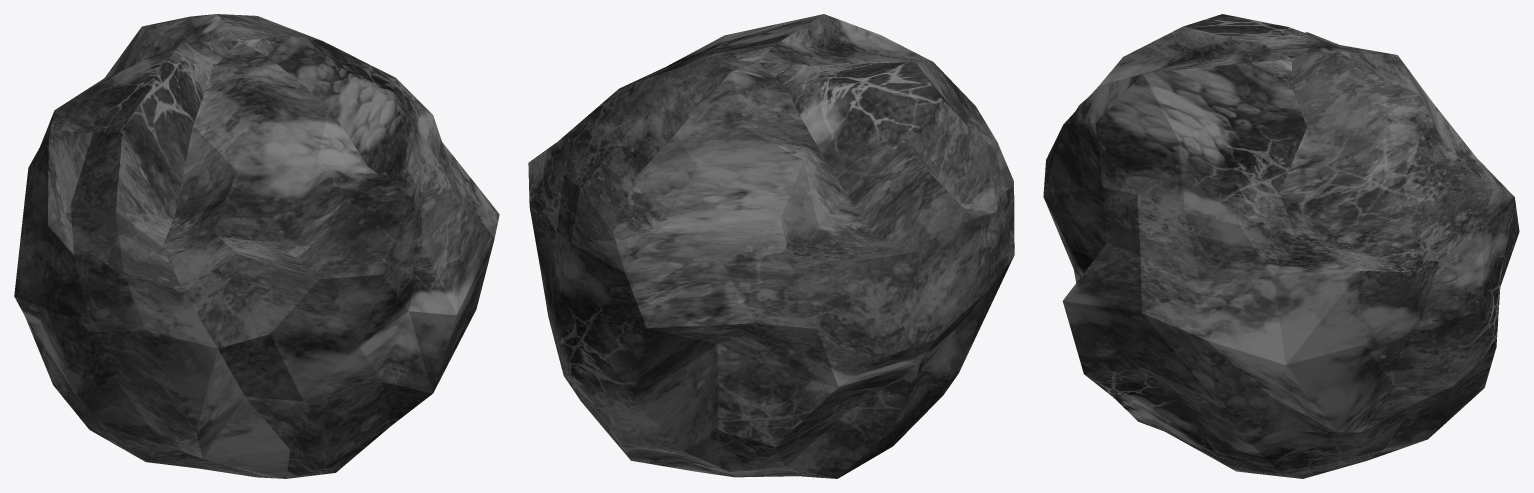
Rendered from asteroid-10m.fbx.
3 renders of one model, left to right at view 1: azimuth 30°, elevation 25°; view 2: azimuth 150°, elevation 25°; view 3: azimuth 270°, elevation 25°, orthographic. The views are drawn at different scales.
Visible parts, largest first — view 1: Asteroid-10m; view 2: Asteroid-10m; view 3: Asteroid-10m.
Part boxes in pixels (<box>): Asteroid-10m: <box>14,14,499,478</box>; Asteroid-10m: <box>528,14,1014,478</box>; Asteroid-10m: <box>1043,14,1519,478</box>.
Bounding box in the file's own units: 1100 × 1113 × 1043.
